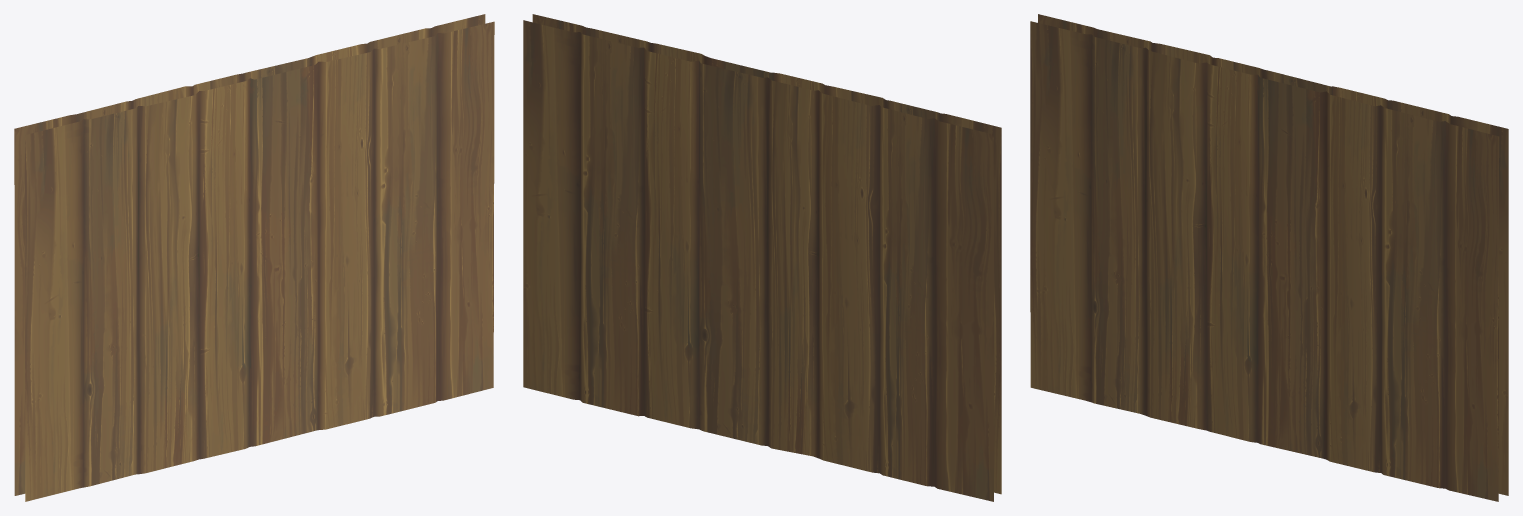
The model's file is SM_MOD_wall_standard_planks_vert_town.fbx.
3 renders of one model, left to right at view 1: azimuth 30°, elevation 25°; view 2: azimuth 150°, elevation 25°; view 3: azimuth 330°, elevation 25°, orthographic.
Visible parts, largest first — view 1: SM_MOD_wall_standard_planks_vert_town; view 2: SM_MOD_wall_standard_planks_vert_town; view 3: SM_MOD_wall_standard_planks_vert_town.
Part boxes in pixels (bbox=[...]): SM_MOD_wall_standard_planks_vert_town: bbox=[14, 14, 494, 501]; SM_MOD_wall_standard_planks_vert_town: bbox=[523, 14, 1001, 501]; SM_MOD_wall_standard_planks_vert_town: bbox=[1030, 14, 1508, 501].
Size of the model in its own units: 378 by 283 by 15.12.
